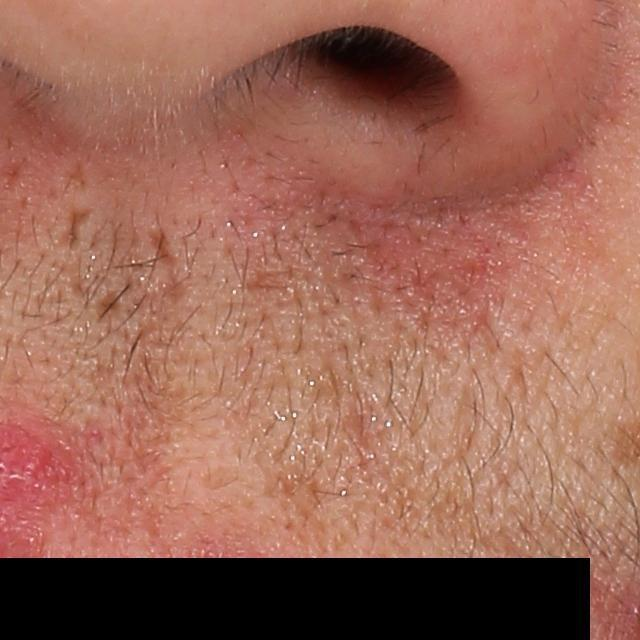atrophic_scar: (52, 205, 100, 252), (150, 222, 181, 275), (63, 159, 89, 194), (97, 290, 124, 318)
